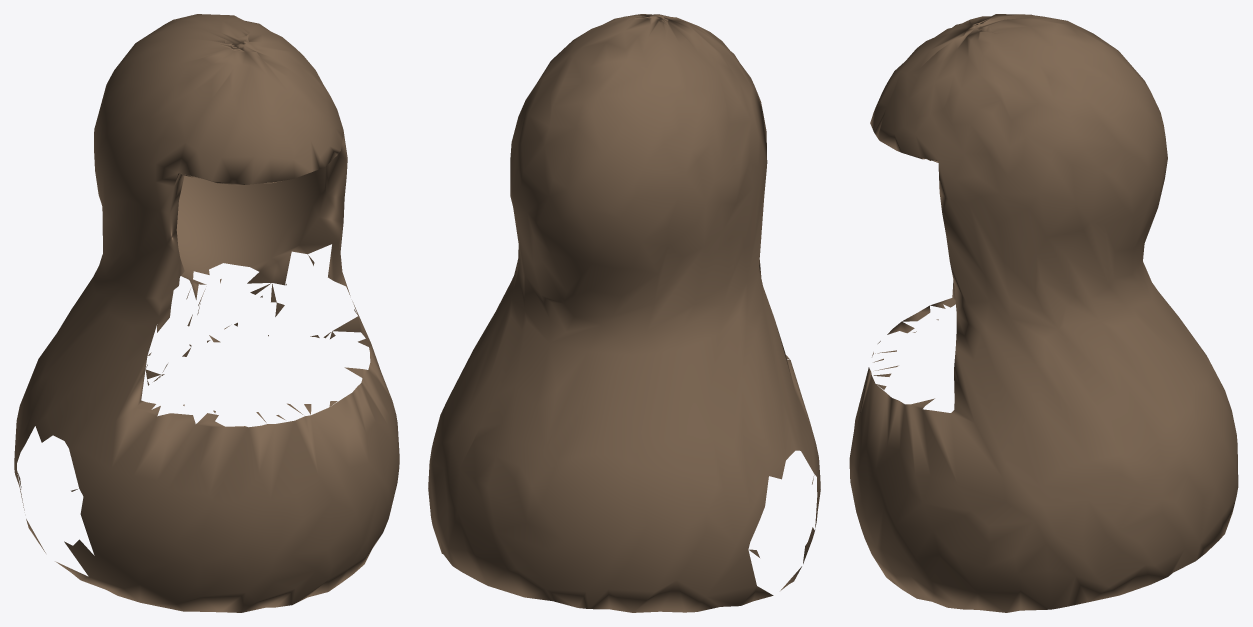
Rendered from hair32-female-hijab-a2.glb.
The picture shows the model from 3 angles, left to right: view 1: azimuth 30°, elevation 25°; view 2: azimuth 150°, elevation 25°; view 3: azimuth 270°, elevation 25°; orthographic projection.
Parts seen in each view (by area): view 1: hair32-hijab; view 2: hair32-hijab; view 3: hair32-hijab.
Part boxes in pixels (box(x1,y1,x2,y2)): hair32-hijab: box(14, 14, 399, 612); hair32-hijab: box(428, 14, 820, 612); hair32-hijab: box(849, 14, 1238, 612).
Size of the model in its own units: 0.2652 by 0.4091 by 0.2699.
